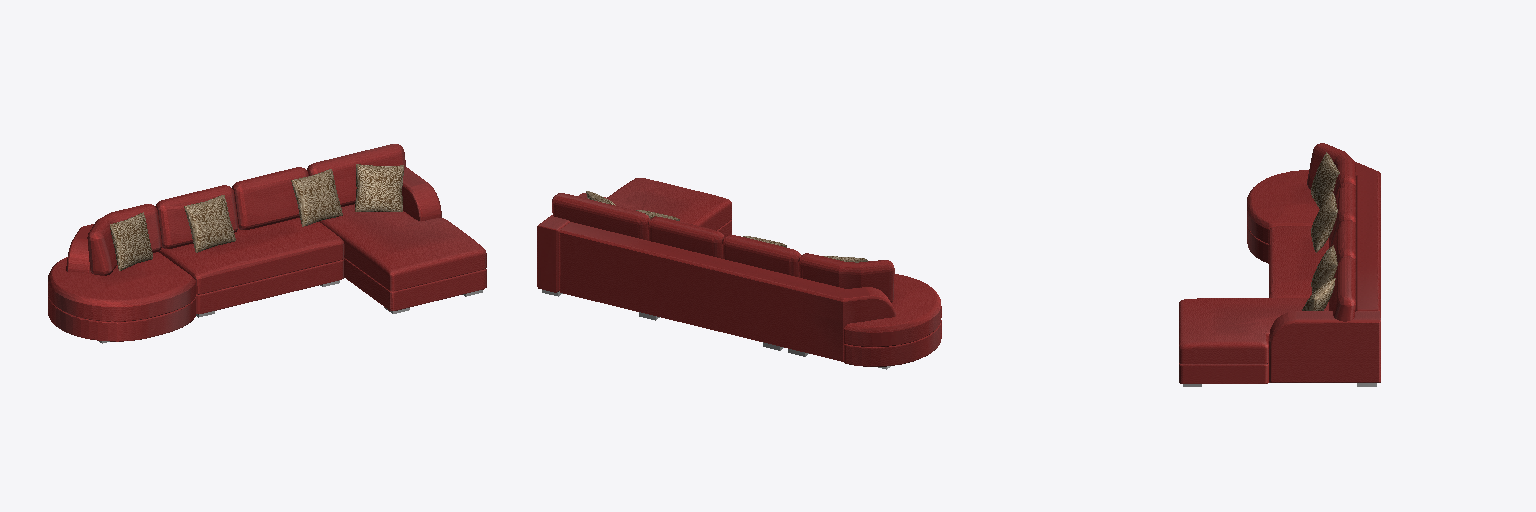
3 renders of one model, left to right at view 1: azimuth 30°, elevation 25°; view 2: azimuth 150°, elevation 25°; view 3: azimuth 270°, elevation 25°, orthographic.
Parts seen in each view (by area): view 1: solid_001, solid_002; view 2: solid_001, solid_002; view 3: solid_001, solid_002.
Part boxes in pixels (bbox=[...]): solid_001: bbox=[48, 144, 486, 341]; solid_002: bbox=[110, 164, 403, 270]; solid_001: bbox=[537, 178, 941, 366]; solid_002: bbox=[586, 191, 867, 262]; solid_001: bbox=[1179, 143, 1380, 383]; solid_002: bbox=[1302, 152, 1339, 310].
Bounding box in the file's own units: 3.89 × 0.9128 × 1.88.
1 materials, 1 textured.